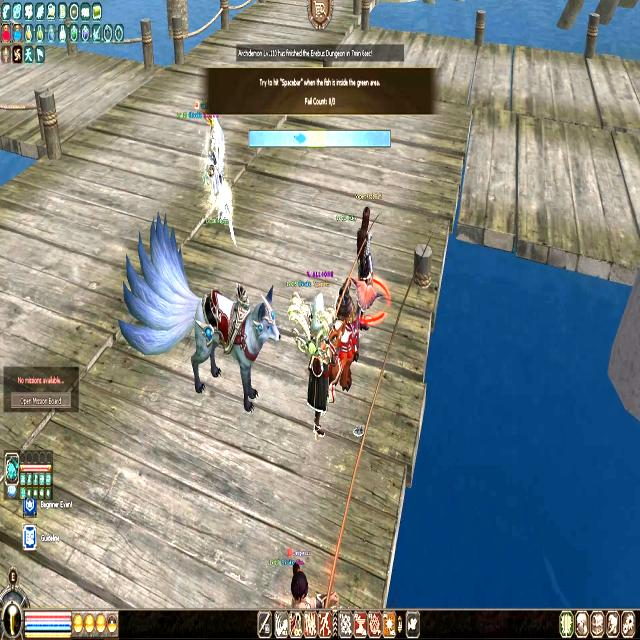fishes: (294, 132, 306, 146)
